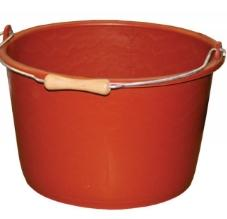SEAU: (0, 15, 227, 219)
